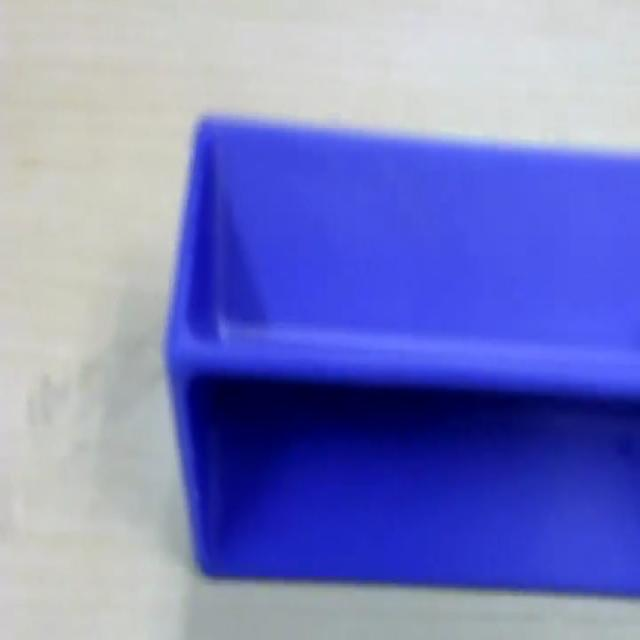blue_block: (164, 109, 638, 596)
